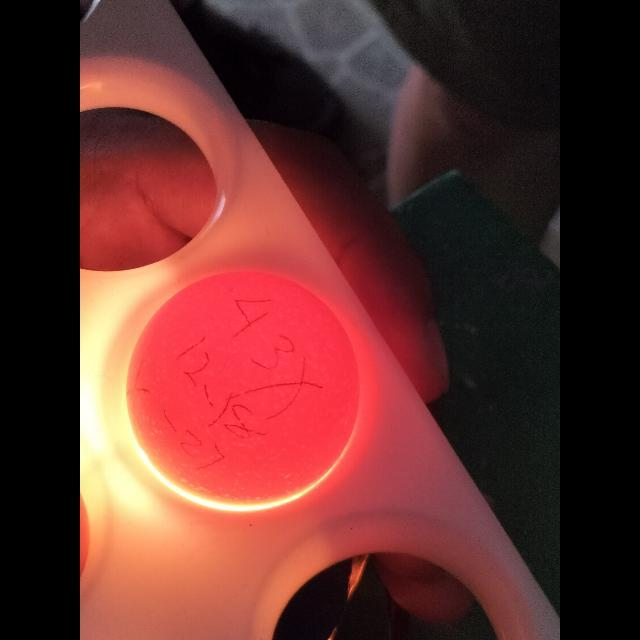Infertile: (126, 274, 362, 502)
